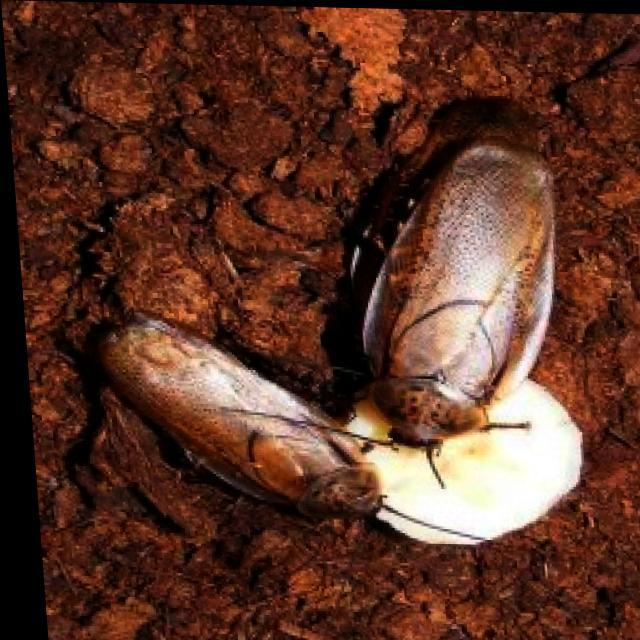cockroach: (80, 292, 402, 554), (357, 130, 560, 442)
